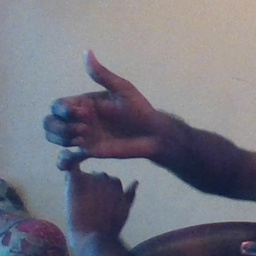S: (39, 43, 156, 228)
